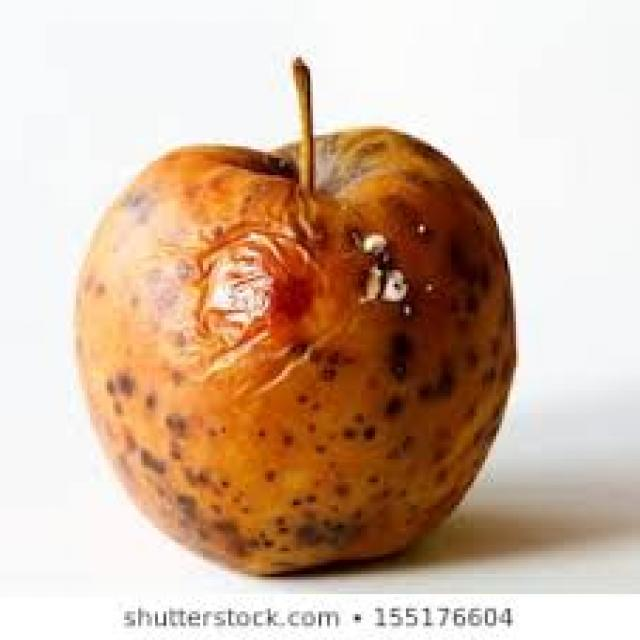organic waste: (71, 55, 513, 571)
